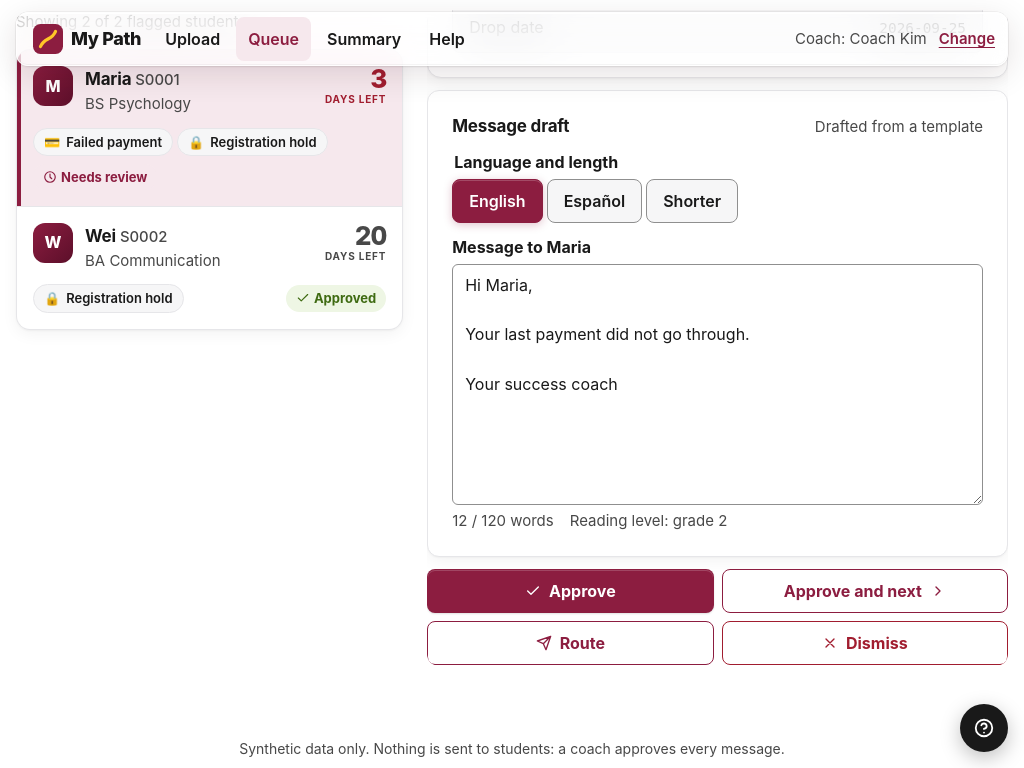
Test case: FlagDetailPage › approves with edits, sending coach name and version, and offers Undo
The image size is (1024, 768).
(page scrolled)
In the text box labelled "Message to Maria": (718, 384) [452,264,983,505], type " See you soon."
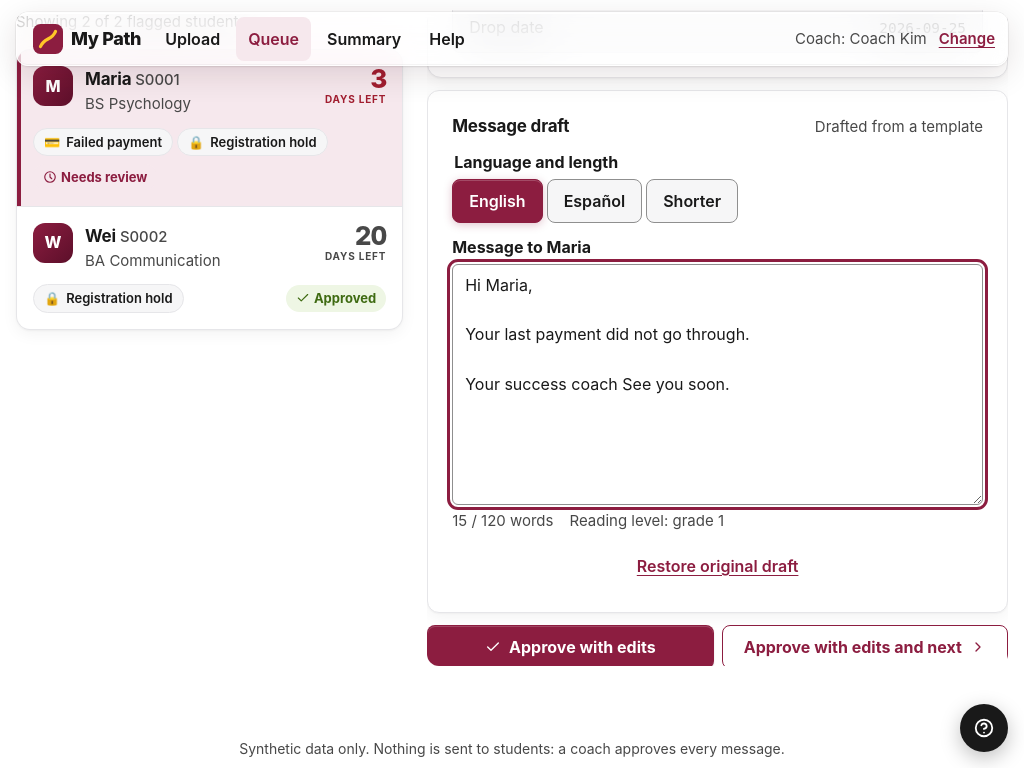
expect the button "Restore original draft" is shown: met, box [452,544,983,588]
Click the button "Approve with edits": (570, 647) [427,625,714,669]
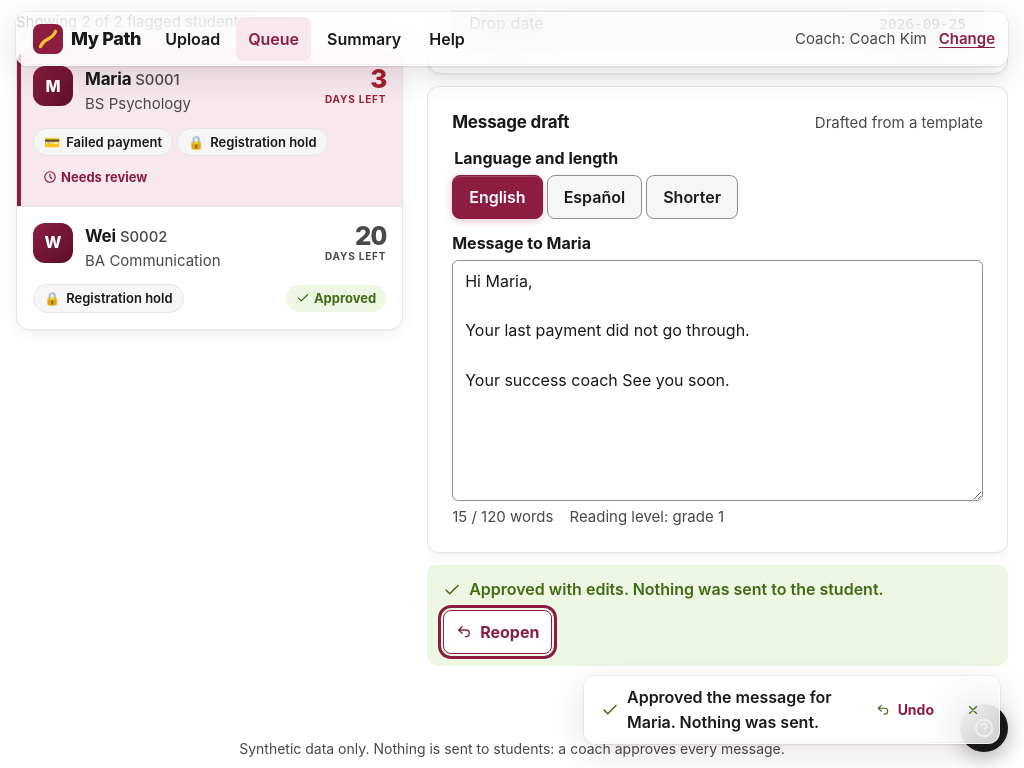
expect the text "Approved with edits. Nothing was sent to the student." is shown: met, box [443,577,884,602]
Click the button "Undo": (905, 710) [863,692,947,728]
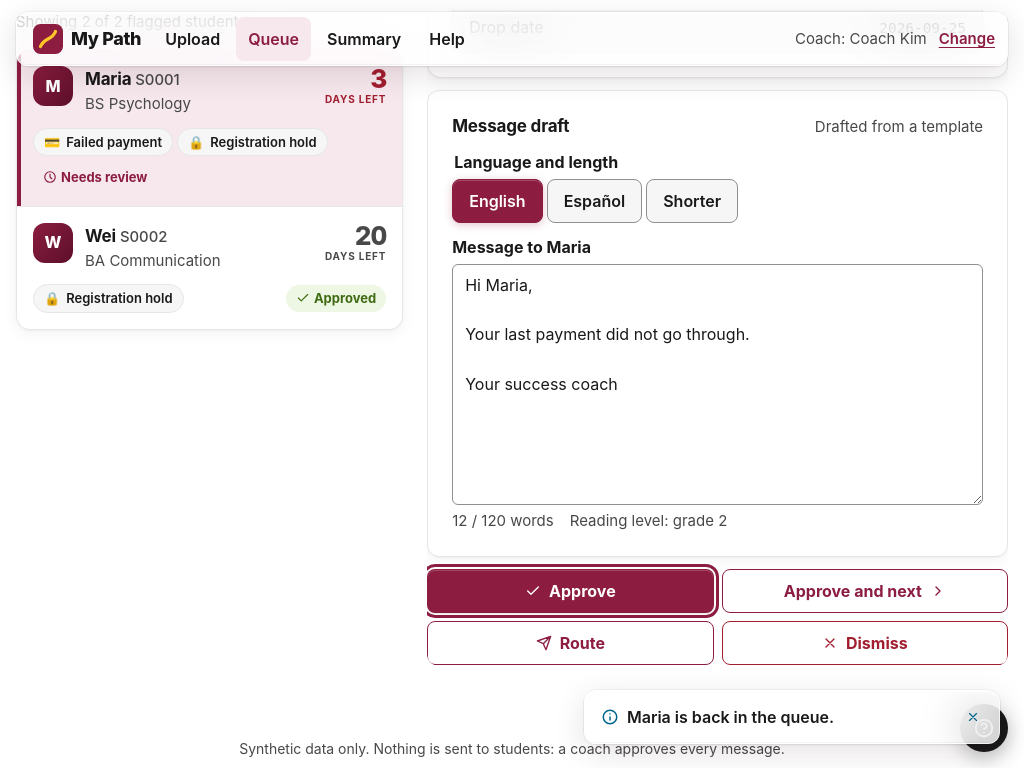
expect the text "Maria is back in the queue." is shown: met, box [627,707,834,727]
